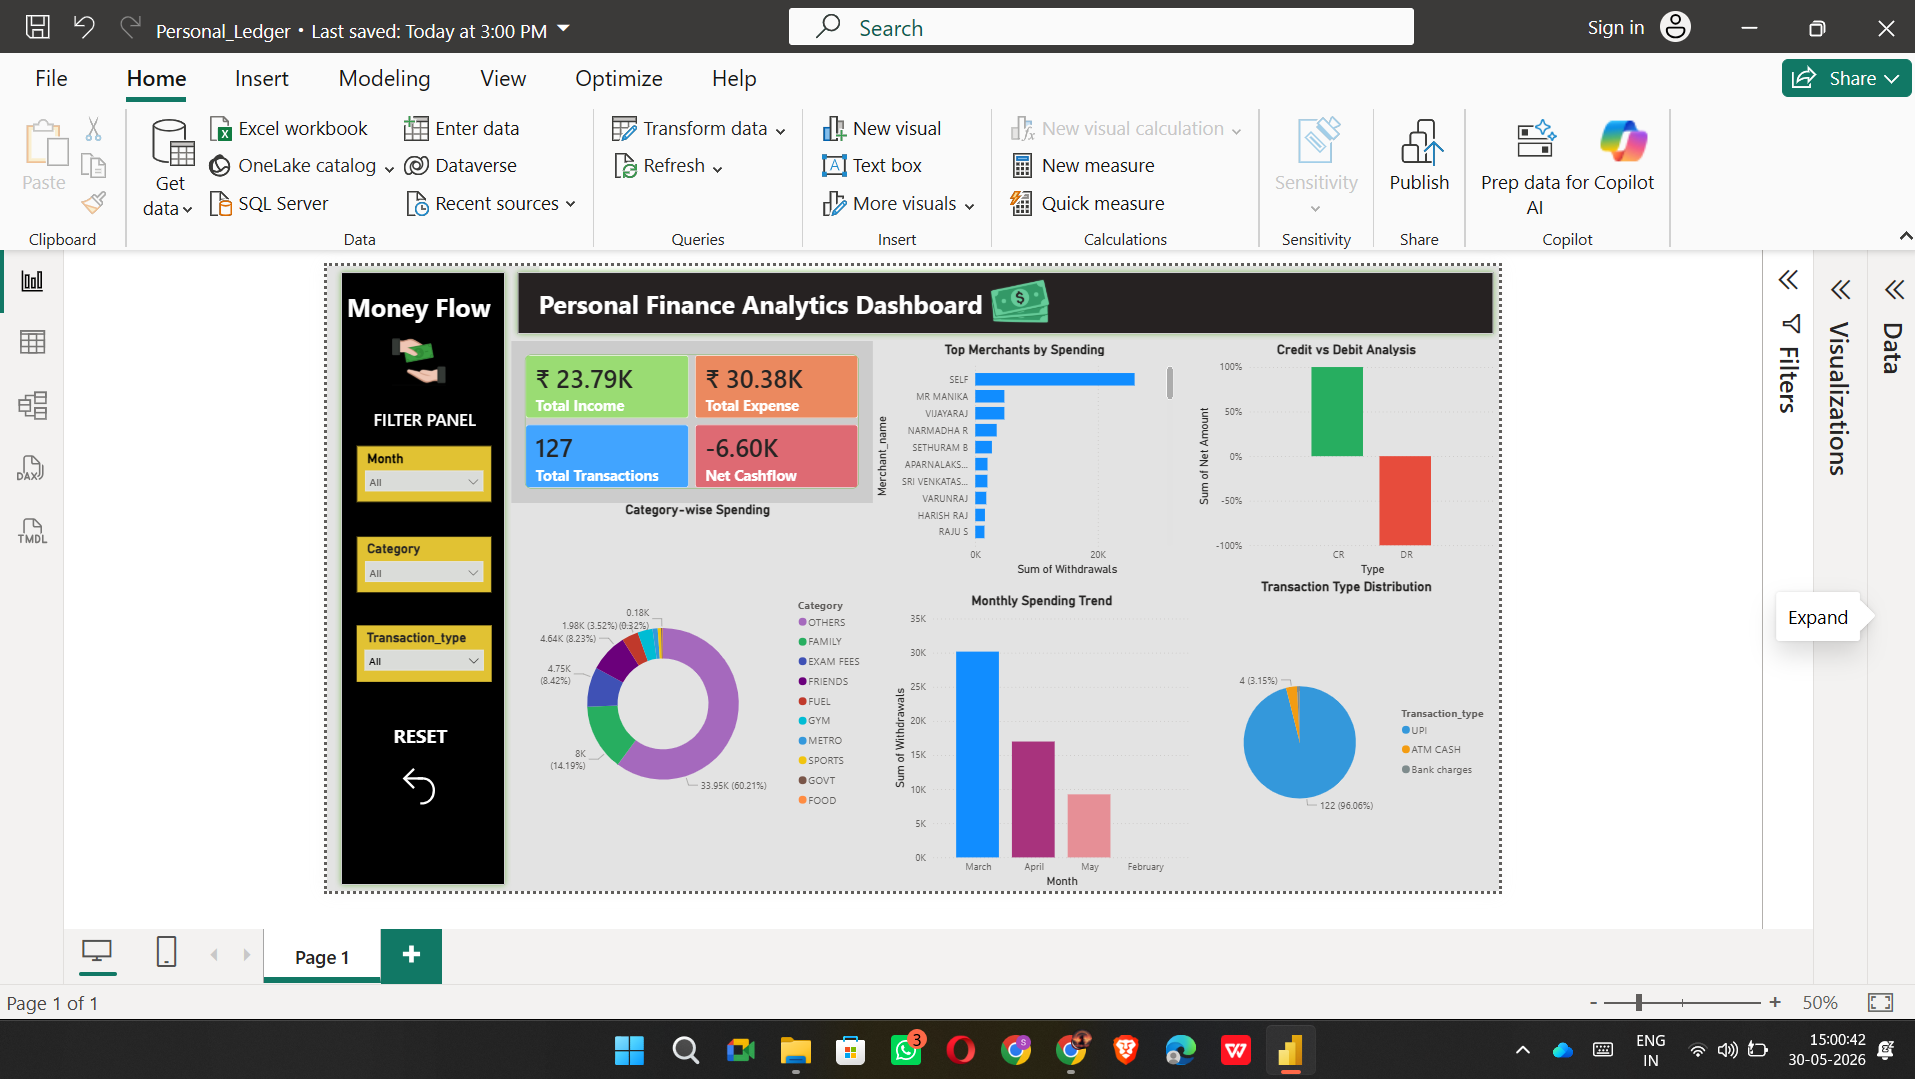

The page's visual inventory and layout, read from the dashboard file:
{"tool":"powerbi","page":{"name":"Page 1","canvas":[1500,800],"ordinal":0},"visuals":[{"type":"shape","box":[9.3,0,225.6,800.2],"z":0},{"type":"textbox","box":[272.5,0,615,62.5],"z":1000},{"type":"shape","box":[235,0,1265,95],"z":2000},{"type":"textbox","box":[252.5,22.5,615,72.5],"z":3000},{"type":"donutChart","title":"Category-wise Spending","fields":{"Y":["Sum(Main_Table.Withdrawals)"],"Category":["Main_Table.Category"]},"box":[252.5,302.5,445,497.5],"z":5000},{"type":"barChart","title":"Transaction Type Distribution","fields":{"Category":["Main_Table.Transaction_type"],"Y":["CountNonNull(Main_Table.Trasnaction ID)"]},"box":[1110,400,390,400],"z":6000},{"type":"clusteredBarChart","title":"Top Merchants by Spending","fields":{"Category":["Main_Table.Merchant_name"],"Y":["Sum(Main_Table.Withdrawals)"]},"box":[697.5,95,390,305],"z":7000},{"type":"hundredPercentStackedColumnChart","title":"Credit vs Debit Analysis","fields":{"Category":["Main_Table.Type"],"Y":["Sum(Main_Table.Net Amount)"]},"box":[1110,95,390,305],"z":8000},{"type":"lineStackedColumnComboChart","title":"Monthly Spending Trend","fields":{"Category":["Main_Table.Month"],"Y":["Sum(Main_Table.Withdrawals)"]},"box":[720,417.5,390,382.5],"z":9000},{"type":"slicer","fields":{"Values":["Main_Table.Month"]},"box":[37.5,230,172.5,72.5],"z":10000},{"type":"slicer","fields":{"Values":["Main_Table.Category"]},"box":[37.5,345,172.5,72.5],"z":11000},{"type":"slicer","fields":{"Values":["Main_Table.Transaction_type"]},"box":[37.5,460,172.5,72.5],"z":12000},{"type":"actionButton","box":[87.5,635,67.5,60],"z":13000},{"type":"image","box":[847.3,0,90.6,90.6],"z":14000},{"type":"textbox","box":[0,25,235,72.5],"z":15000},{"type":"textbox","box":[80,580,87.5,57.5],"z":16000},{"type":"image","box":[50,90,135,62.5],"z":17000},{"type":"textbox","box":[30,175,190,55],"z":18000},{"type":"cardVisual","fields":{"Data":["Main_Table.Total Income","Main_Table.Total Expense","Main_Table.Total Transactions","Main_Table.Net Cashflow"]},"box":[235.9,90.6,462.3,207.6],"z":19000}]}

Visuals, with their boxes on the page's 1500x800 design canvas (x1, y1, x2, y2). These are canvas units, not pixel positions in the 1915x1079 screenshot, which may show the page scaled, cropped or inside an application window:
shape: select_region(9, 0, 235, 800)
textbox: select_region(272, 0, 888, 62)
shape: select_region(235, 0, 1500, 95)
textbox: select_region(252, 22, 868, 95)
"Category-wise Spending" donutChart: select_region(252, 302, 698, 800)
"Transaction Type Distribution" barChart: select_region(1110, 400, 1500, 800)
"Top Merchants by Spending" clusteredBarChart: select_region(698, 95, 1088, 400)
"Credit vs Debit Analysis" hundredPercentStackedColumnChart: select_region(1110, 95, 1500, 400)
"Monthly Spending Trend" lineStackedColumnComboChart: select_region(720, 418, 1110, 800)
slicer - Main_Table.Month: select_region(38, 230, 210, 302)
slicer - Main_Table.Category: select_region(38, 345, 210, 418)
slicer - Main_Table.Transaction_type: select_region(38, 460, 210, 532)
actionButton: select_region(88, 635, 155, 695)
image: select_region(847, 0, 938, 91)
textbox: select_region(0, 25, 235, 98)
textbox: select_region(80, 580, 168, 638)
image: select_region(50, 90, 185, 152)
textbox: select_region(30, 175, 220, 230)
cardVisual - Main_Table.Total Income x Main_Table.Total Expense: select_region(236, 91, 698, 298)
